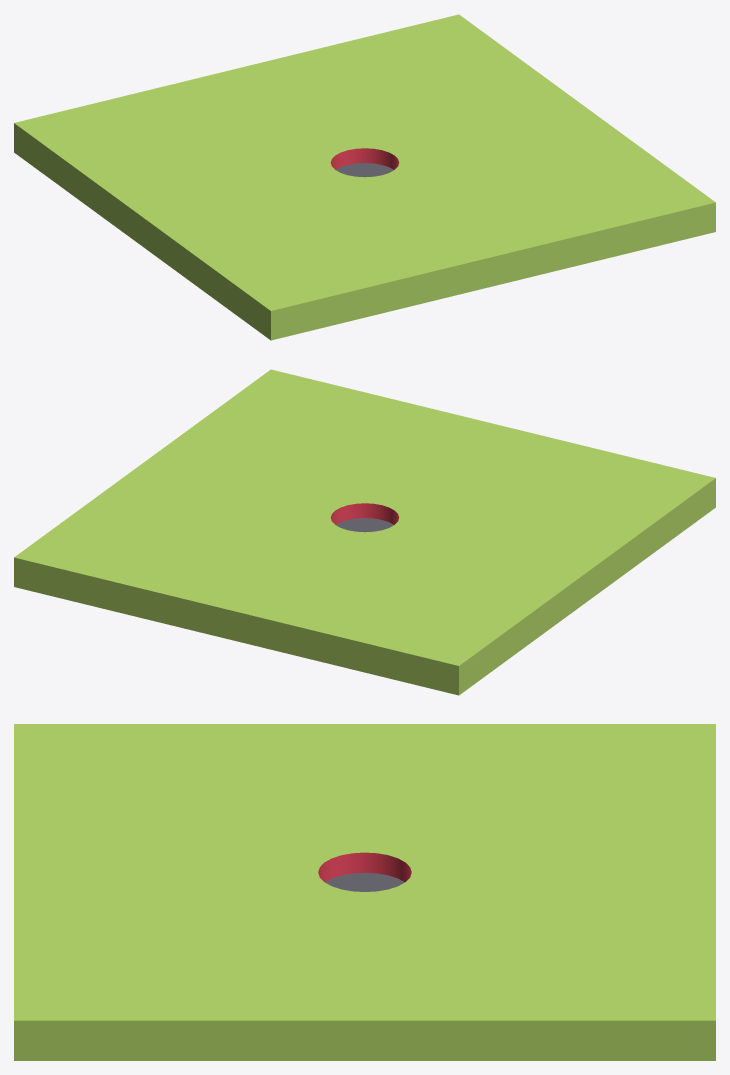
The model's file is holeOpen.fbx.
3 views of the same model, one above another, from view 1: azimuth 30°, elevation 25°; view 2: azimuth 150°, elevation 25°; view 3: azimuth 270°, elevation 25° (orthographic). The views are drawn at different scales.
Parts seen in each view (by area): view 1: holeOpen; view 2: holeOpen; view 3: holeOpen.
Boxes of the visible parts, x1,y1,x2,y2 form: holeOpen: (14,14,715,340); holeOpen: (14,369,715,695); holeOpen: (14,724,715,1060).
Size of the model in its own units: 10 by 0.6333 by 10.
